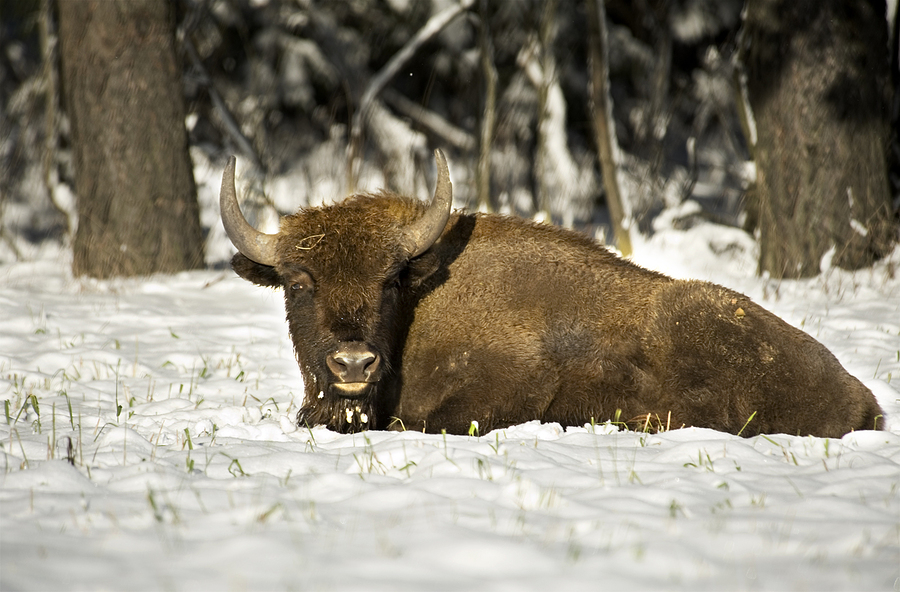zubr: (198, 135, 898, 452)
